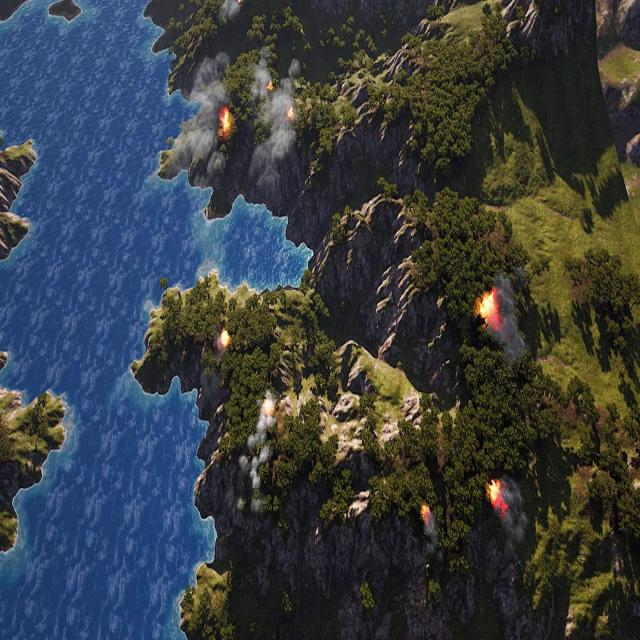fire: (477, 288, 499, 323), (488, 480, 504, 510), (221, 107, 231, 141), (217, 329, 229, 348), (422, 501, 431, 525), (286, 105, 294, 121)
smoke: (235, 384, 282, 518), (253, 56, 302, 164), (188, 51, 230, 162), (491, 274, 526, 368)
